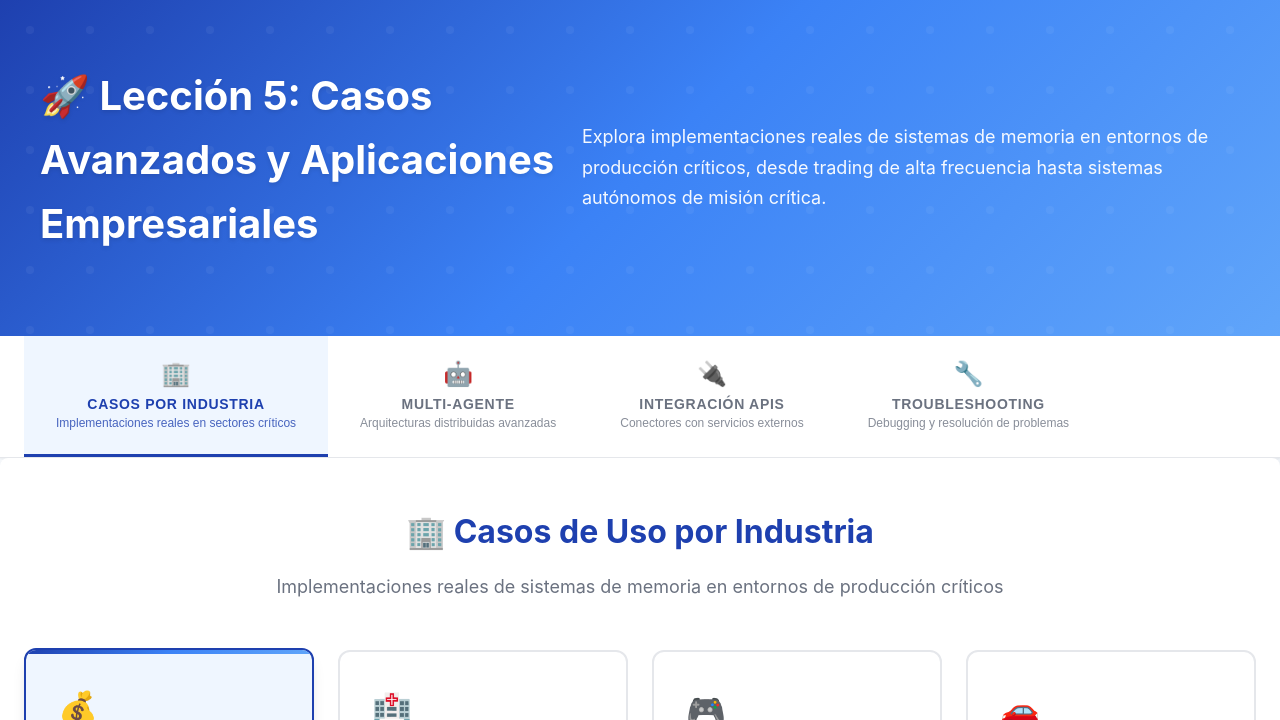
Test case: Lesson05AdvancedCases › Functional Tests › real-time logging can be toggled
Click the tab "🔧 Troubleshooting Debugging y resolución de problemas". click: x=968, y=396
box: [836, 336, 1101, 457]
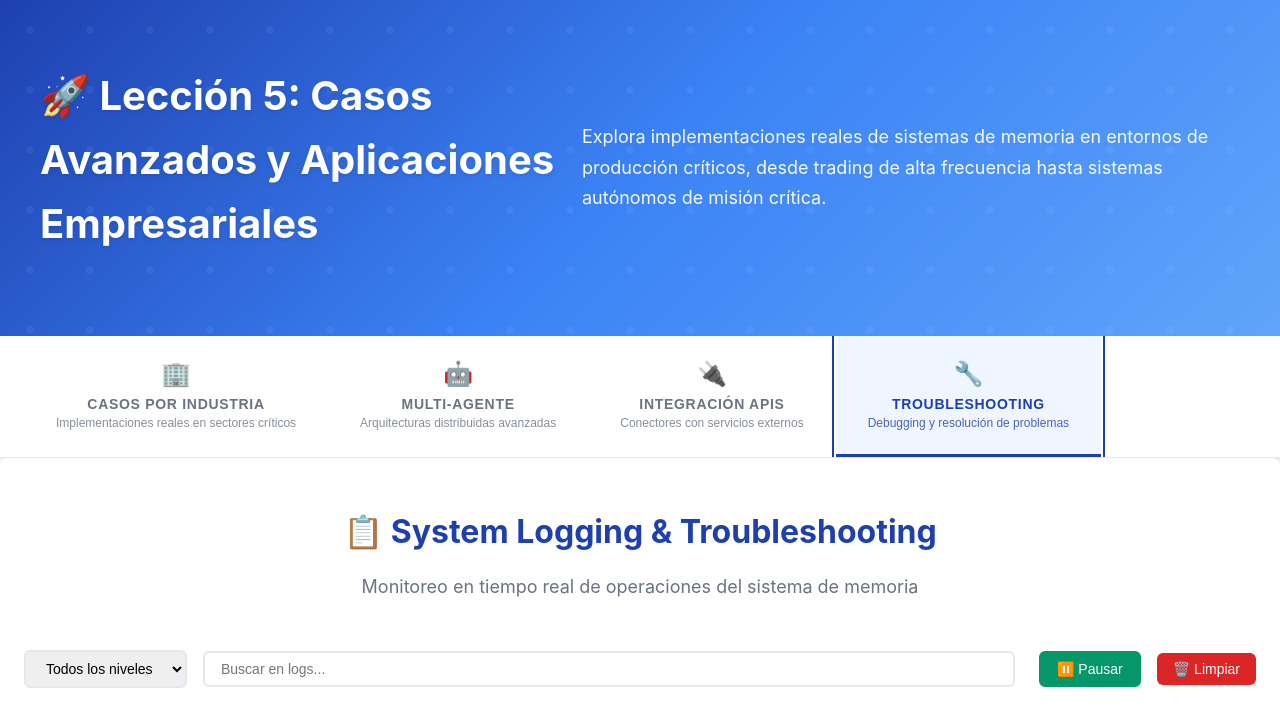
Click the button "⏸️ Pausar". click: x=1090, y=669
box: [1039, 651, 1141, 687]
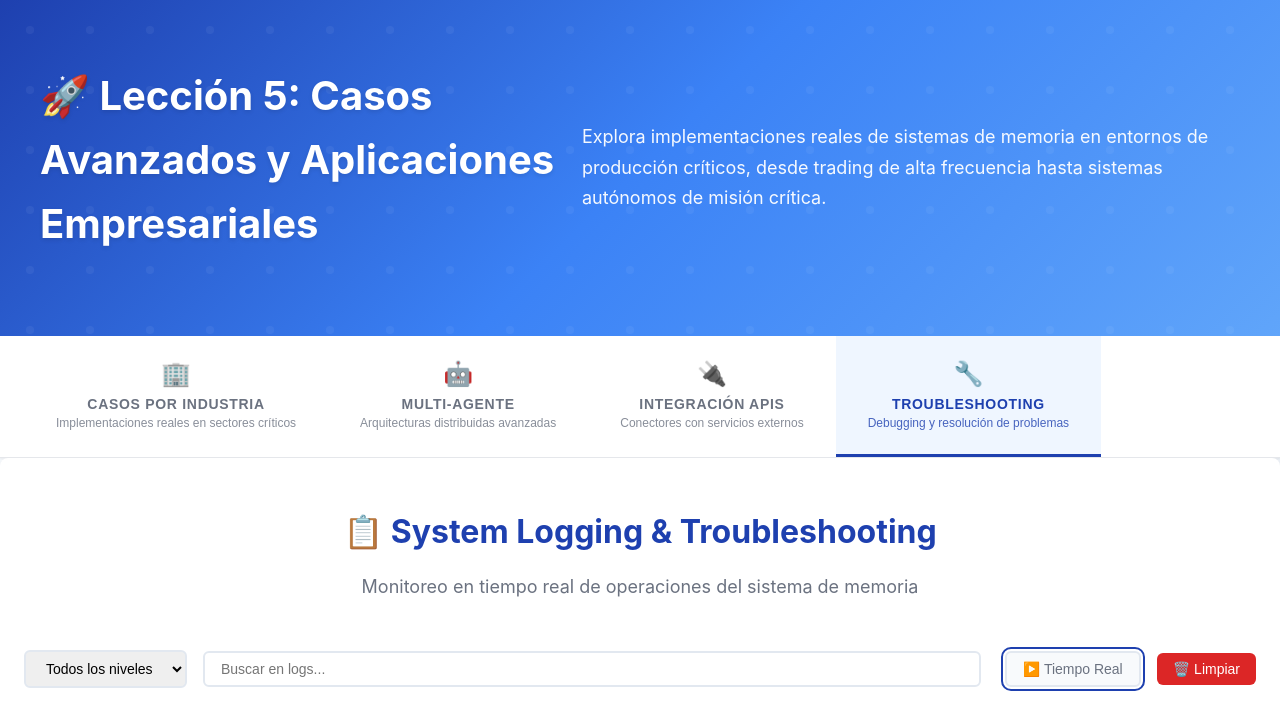
Expected: the button "⏸️ Pausar" no longer shows "⏸️ Pausar"
